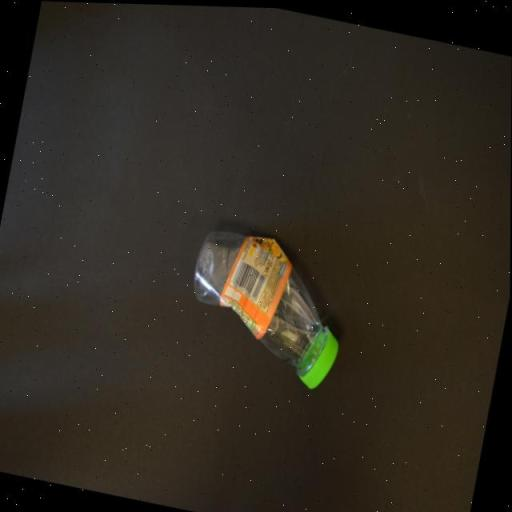plastic: (177, 222, 358, 393)
